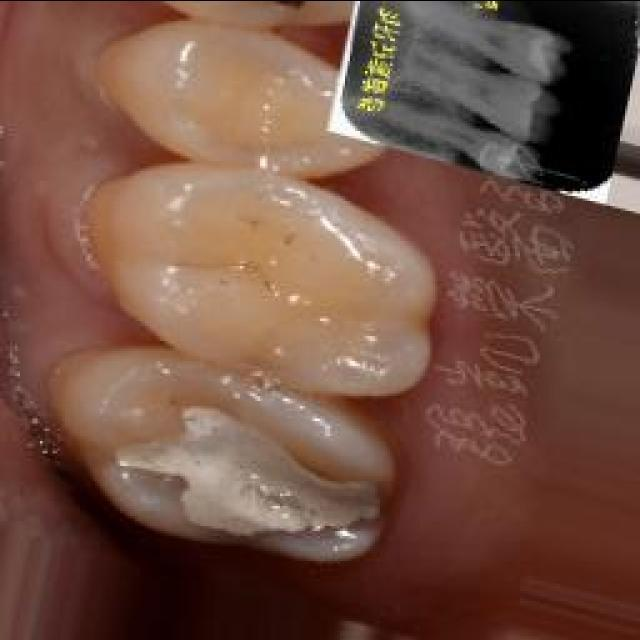caries: (86, 402, 400, 560)
